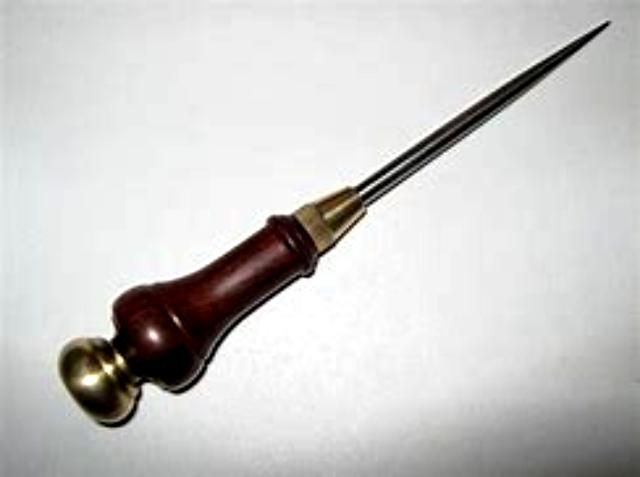ice pick: (61, 22, 611, 432)
